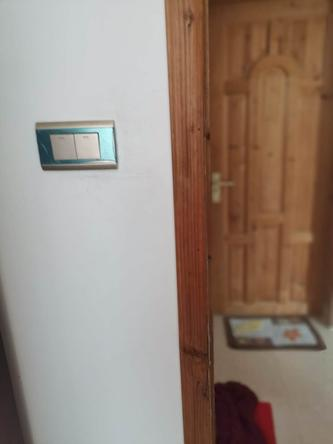switch: (46, 132, 78, 164), (75, 130, 103, 162)
